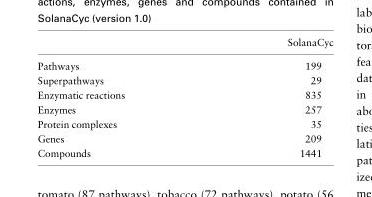table: (36, 37, 332, 158)
table column: (36, 37, 205, 158), (205, 37, 332, 158)
table column header: (36, 37, 332, 54)
table row: (36, 54, 332, 73), (36, 37, 332, 54), (36, 87, 332, 102), (36, 116, 332, 131), (36, 73, 332, 87), (36, 102, 332, 116), (36, 131, 332, 145), (36, 145, 332, 158)
